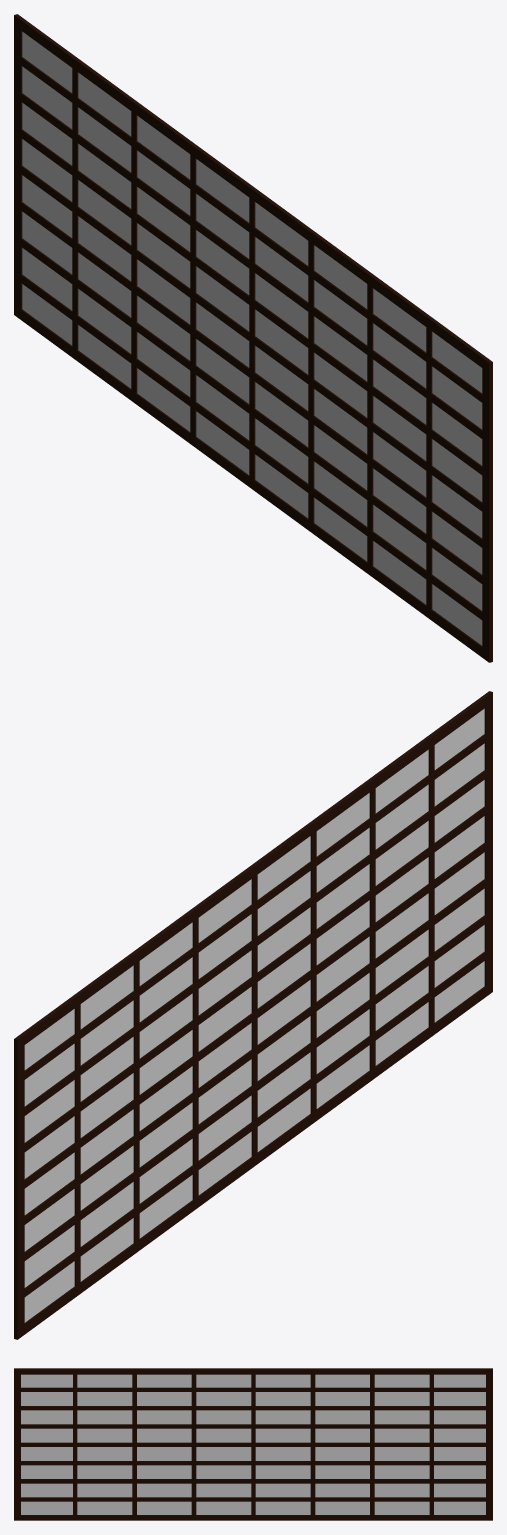
Rendered from Windows (1).fbx.
The picture shows the model from 3 angles, top to bottom: view 1: azimuth 30°, elevation 25°; view 2: azimuth 150°, elevation 25°; view 3: azimuth 270°, elevation 25°; orthographic projection. The views are drawn at different scales.
Visible parts, largest first — view 1: Left_Window, Right_Window, Left_Frame, Mid_Window, Right_Frame, Mid_Frame; view 2: Right_Window, Left_Window, Right_Frame, Mid_Window, Left_Frame, Mid_Frame; view 3: Left_Window, Right_Window, Mid_Window, Left_Frame, Right_Frame, Mid_Frame.
Part boxes in pixels (box(x1,y1,x2,y2)): Left_Window: box(314, 245, 482, 645); Right_Window: box(22, 31, 190, 431); Left_Frame: box(310, 231, 492, 662); Mid_Window: box(196, 159, 308, 518); Right_Frame: box(14, 14, 195, 445); Mid_Frame: box(192, 145, 313, 531); Right_Window: box(24, 922, 192, 1322); Left_Window: box(316, 708, 484, 1108); Right_Frame: box(14, 908, 196, 1339); Mid_Window: box(198, 836, 310, 1195); Left_Frame: box(311, 691, 492, 1122); Mid_Frame: box(193, 822, 314, 1208); Left_Window: box(21, 1374, 191, 1514); Right_Window: box(315, 1374, 485, 1514); Mid_Window: box(196, 1374, 310, 1514); Left_Frame: box(14, 1368, 193, 1520); Right_Frame: box(313, 1368, 492, 1520); Mid_Frame: box(194, 1368, 312, 1520).
Size of the model in its own units: 10 by 774 by 2224.
